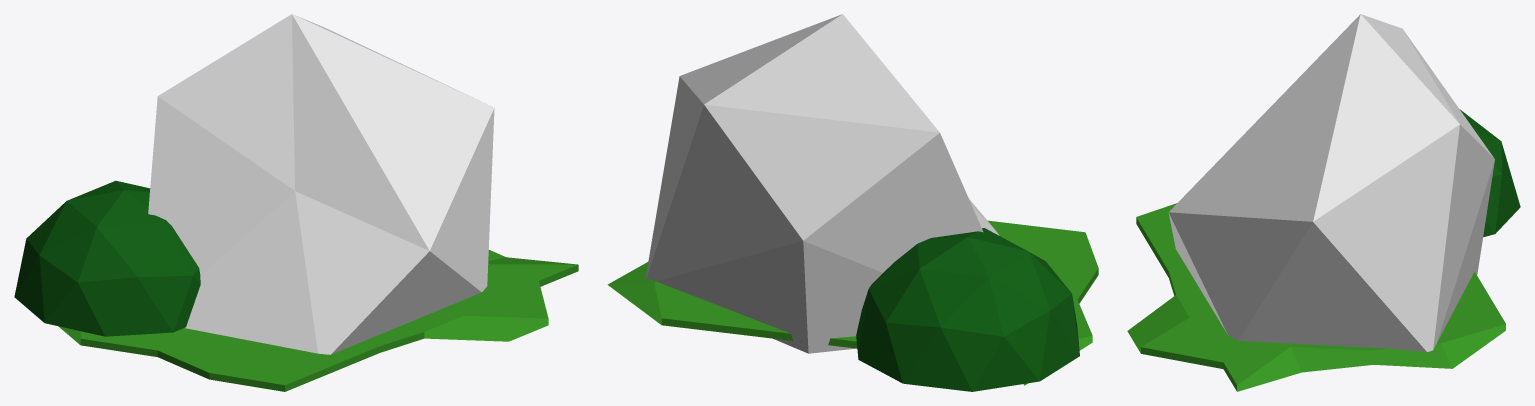
File: black_b_n.glb
3 views of the same model, side by side, from view 1: azimuth 30°, elevation 25°; view 2: azimuth 150°, elevation 25°; view 3: azimuth 270°, elevation 25° (orthographic). The views are drawn at different scales.
Visible parts, largest first — view 1: black_b_n; view 2: black_b_n; view 3: black_b_n.
Boxes of the visible parts, x1,y1,x2,y2 form: black_b_n: [14, 14, 578, 391]; black_b_n: [607, 14, 1098, 391]; black_b_n: [1127, 14, 1520, 391].
Size of the model in its own units: 7.21 by 4.09 by 5.31.
